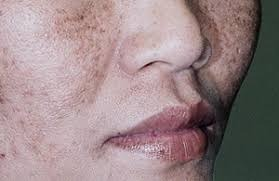Melasma: (100, 112, 190, 175), (47, 0, 100, 82), (200, 0, 259, 32)
